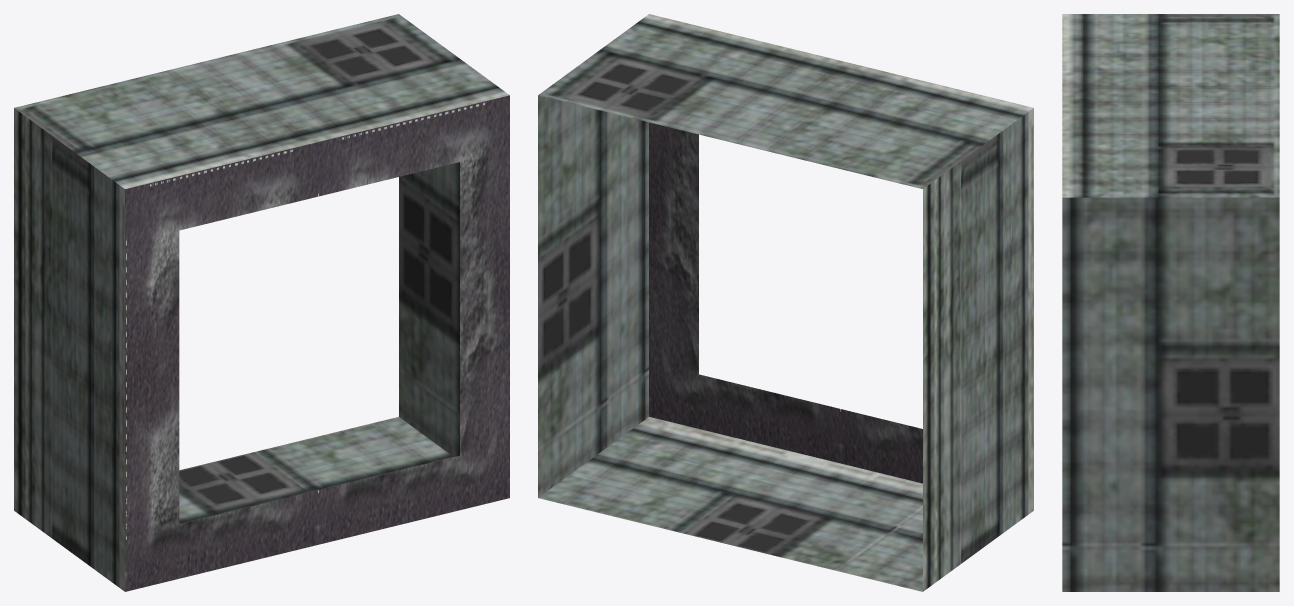
File: building4x2x4b_wtf.obj
3 views of the same model, side by side, from view 1: azimuth 30°, elevation 25°; view 2: azimuth 150°, elevation 25°; view 3: azimuth 270°, elevation 25° (orthographic). The views are drawn at different scales.
Parts seen in each view (by area): view 1: group4, group7, group6, group5, group3; view 2: group7, group6, group5, group3, group4; view 3: group5, group6.
Part boxes in pixels (x1=…): group4: x1=125, y1=95, x2=509, y2=591; group7: x1=14, y1=108, x2=124, y2=591; group6: x1=14, y1=14, x2=509, y2=188; group5: x1=399, y1=162, x2=459, y2=456; group3: x1=179, y1=417, x2=453, y2=523; group7: x1=923, y1=108, x2=1033, y2=591; group6: x1=538, y1=14, x2=1033, y2=188; group5: x1=538, y1=95, x2=648, y2=497; group3: x1=538, y1=417, x2=922, y2=591; group4: x1=649, y1=122, x2=922, y2=483; group5: x1=1062, y1=197, x2=1279, y2=591; group6: x1=1062, y1=14, x2=1279, y2=197.
Size of the model in its own units: 660 by 660 by 330.
